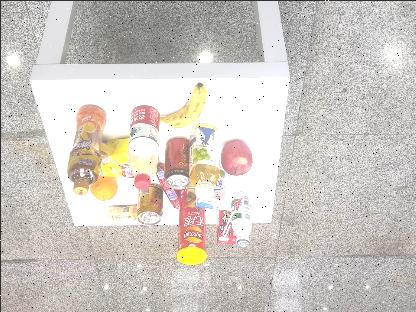Can: (165, 137, 189, 189), (136, 184, 162, 224)
Others: (174, 186, 206, 266), (193, 164, 225, 210), (216, 206, 238, 246)
Plastic Bottle: (122, 90, 170, 192)
